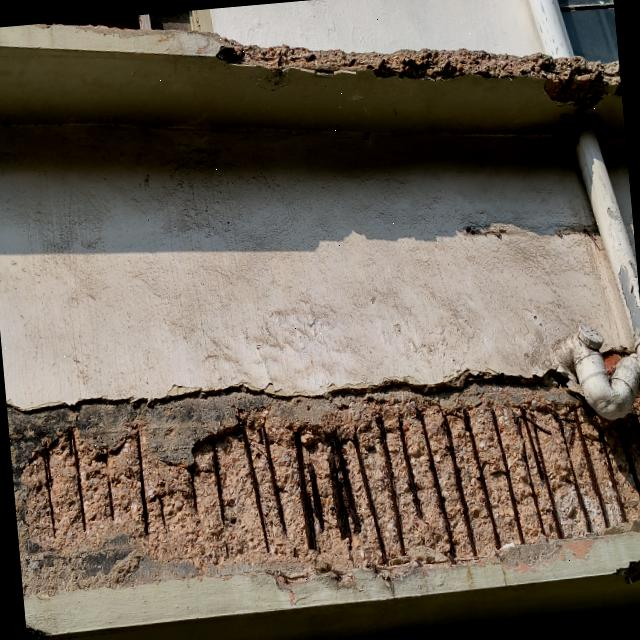spalling: (6, 376, 640, 608), (200, 33, 621, 107)
